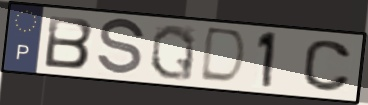1: (254, 29, 280, 91)
B: (42, 13, 96, 71)
C: (300, 38, 353, 94)
D: (196, 25, 250, 87)
Q: (148, 22, 198, 82)
S: (95, 16, 148, 78)
